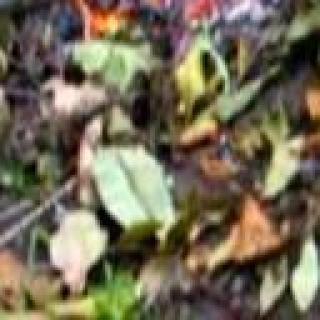fire: (95, 0, 320, 7)
